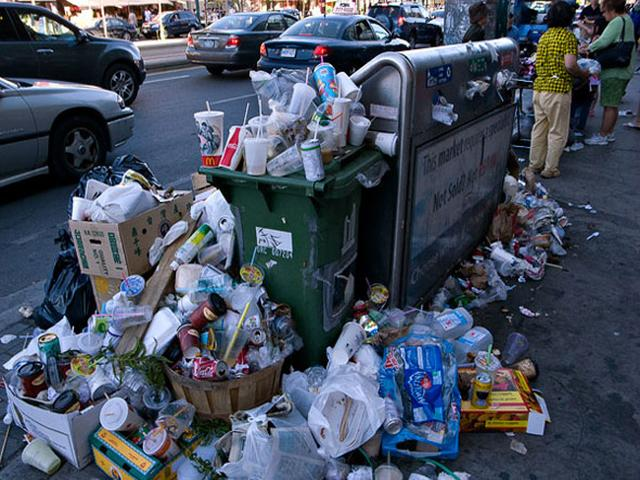garbage: (34, 334, 501, 454), (80, 199, 225, 464), (211, 98, 333, 164)
